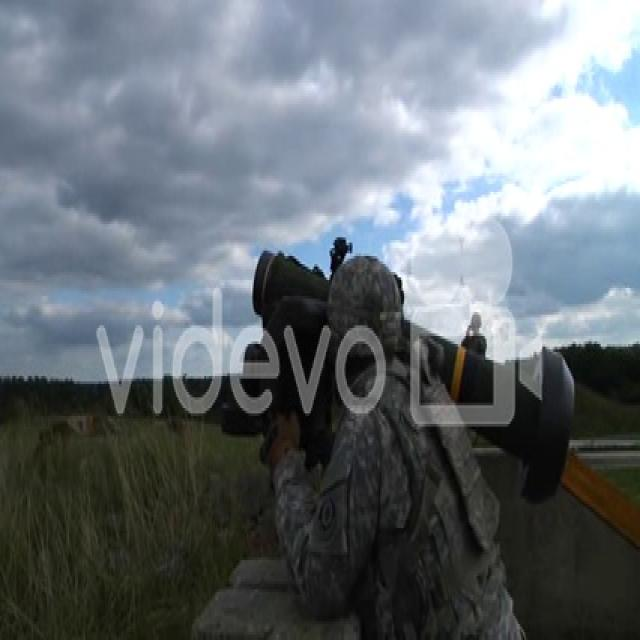bazooka: (248, 243, 579, 508)
